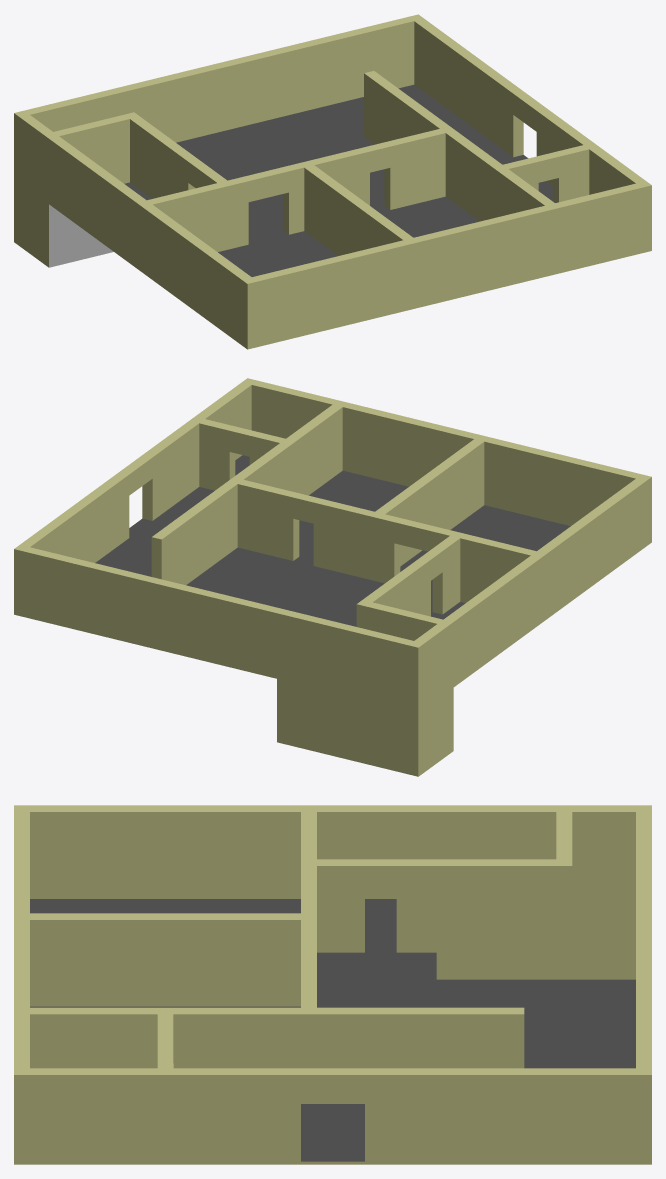
Rendered from Station.FBX.
3 renders of one model, top to bottom at view 1: azimuth 30°, elevation 25°; view 2: azimuth 150°, elevation 25°; view 3: azimuth 270°, elevation 25°, orthographic. The views are drawn at different scales.
Visible parts, largest first — view 1: Station; view 2: Station; view 3: Station.
Boxes of the visible parts, bbox=[...] form: Station: bbox=[14, 14, 651, 349]; Station: bbox=[14, 378, 651, 776]; Station: bbox=[14, 805, 651, 1164].
Size of the model in its own units: 1000 by 305 by 1000.
